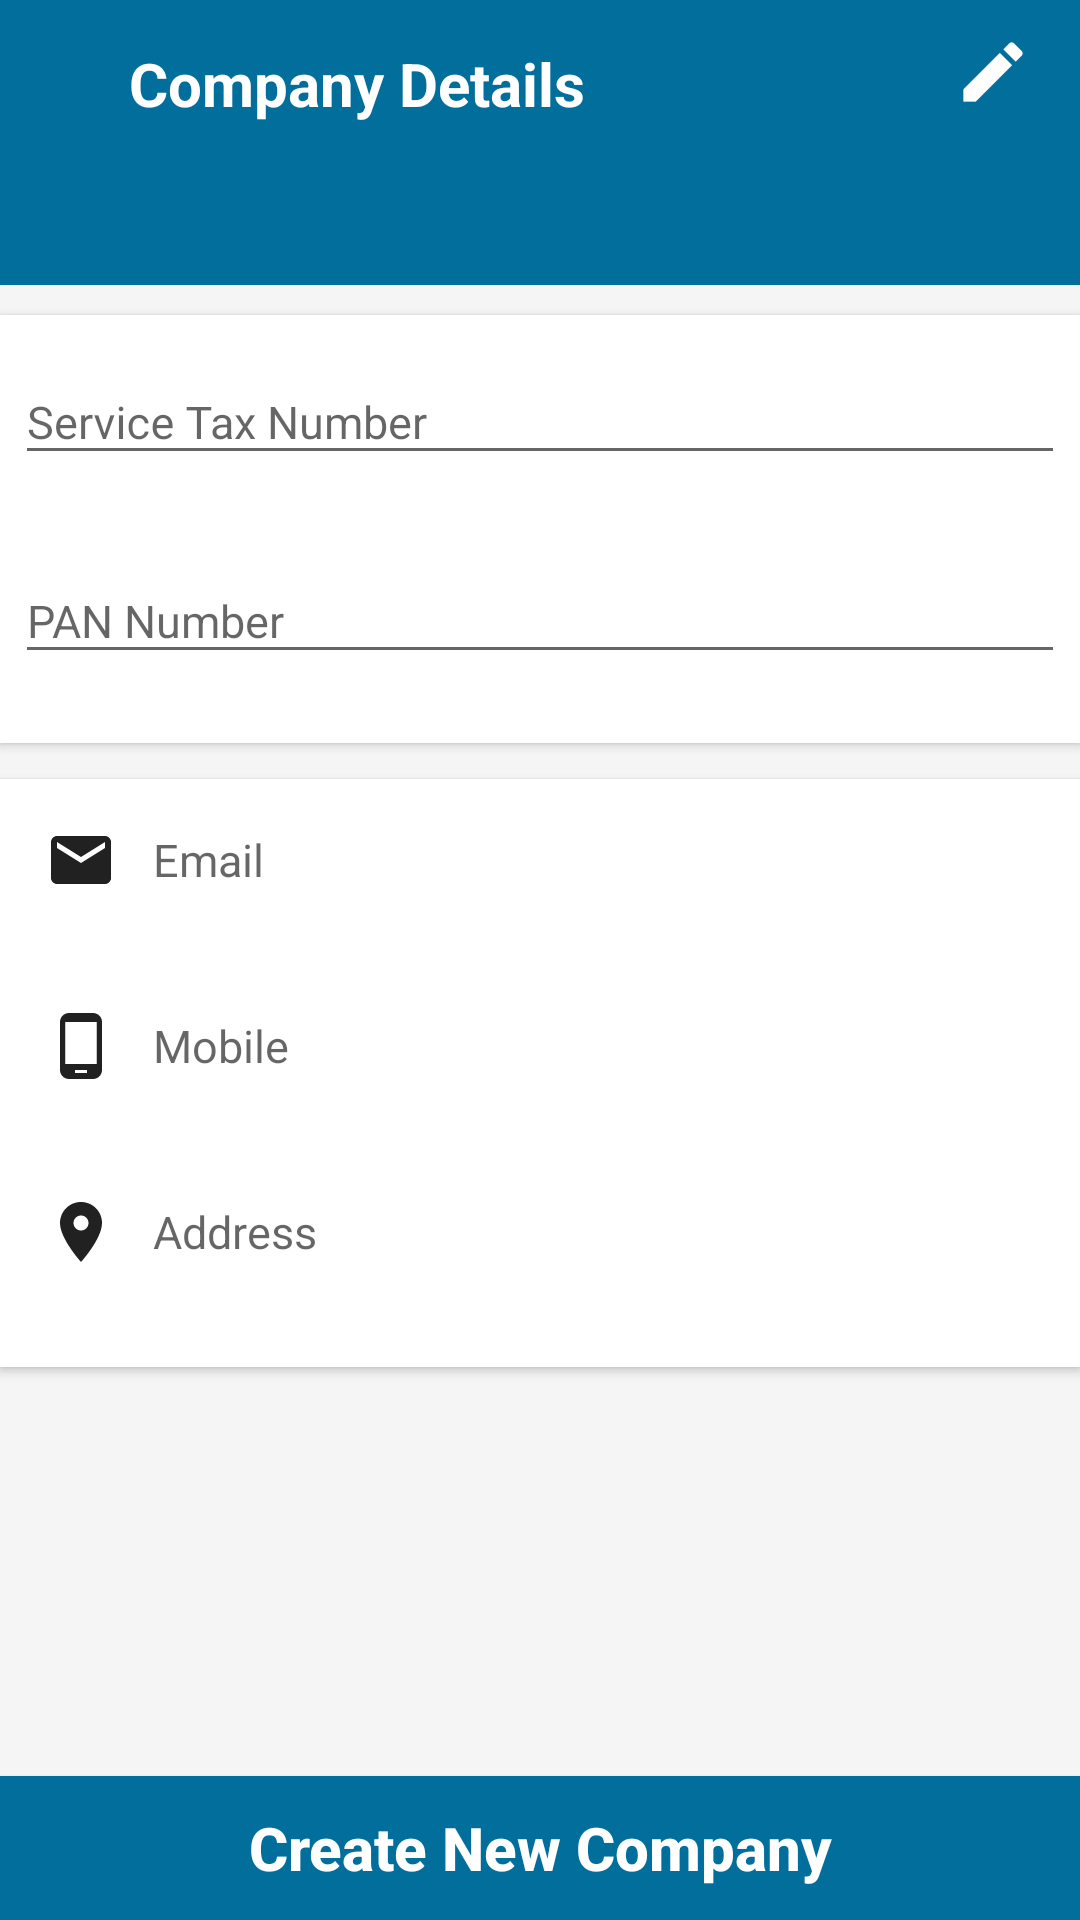

Icons on this 1080 × 1920 Android screen, each with the point to tap as (x=x, y=y):
edit: (x=993, y=72)
